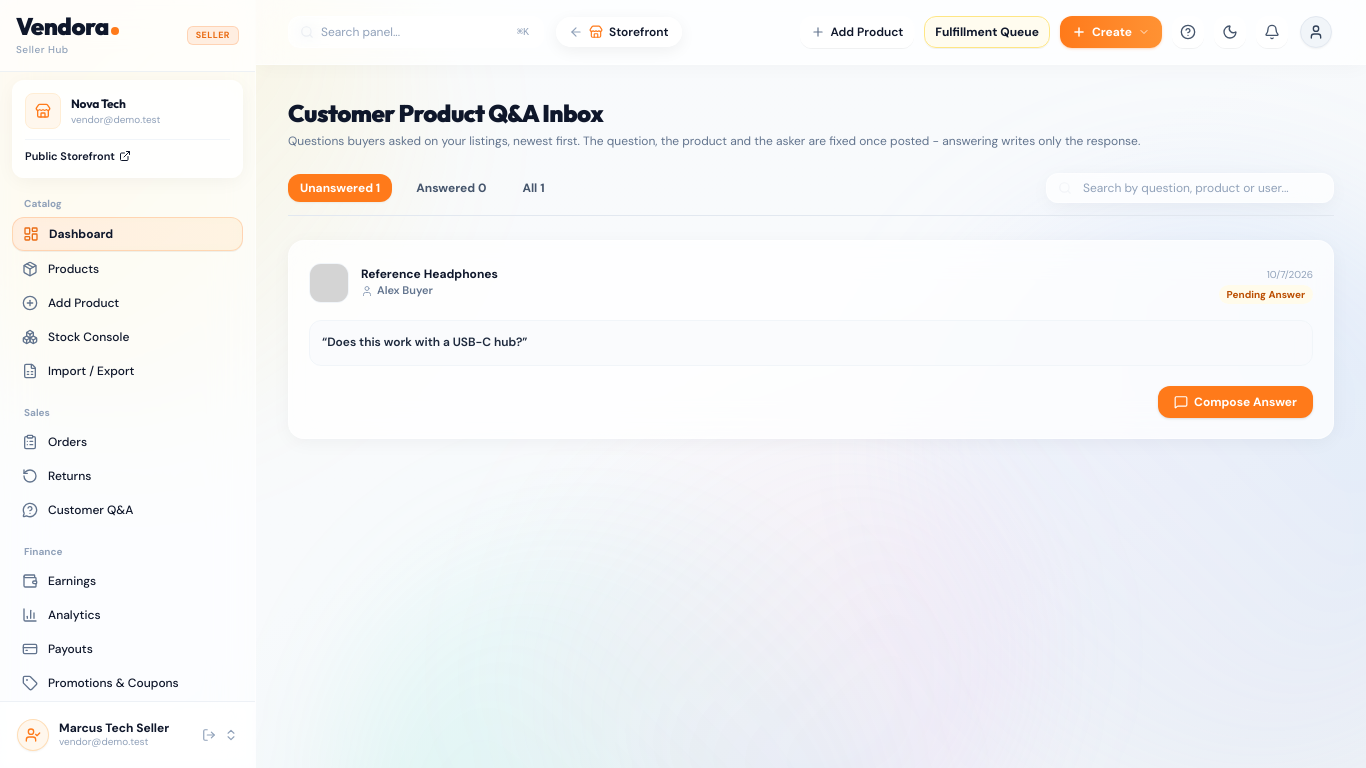
Test: VendorQAPage › reports a write the database refused instead of pretending it saved
Click the button "Compose Answer".
click(1236, 402)  # box [1158,386,1313,418]
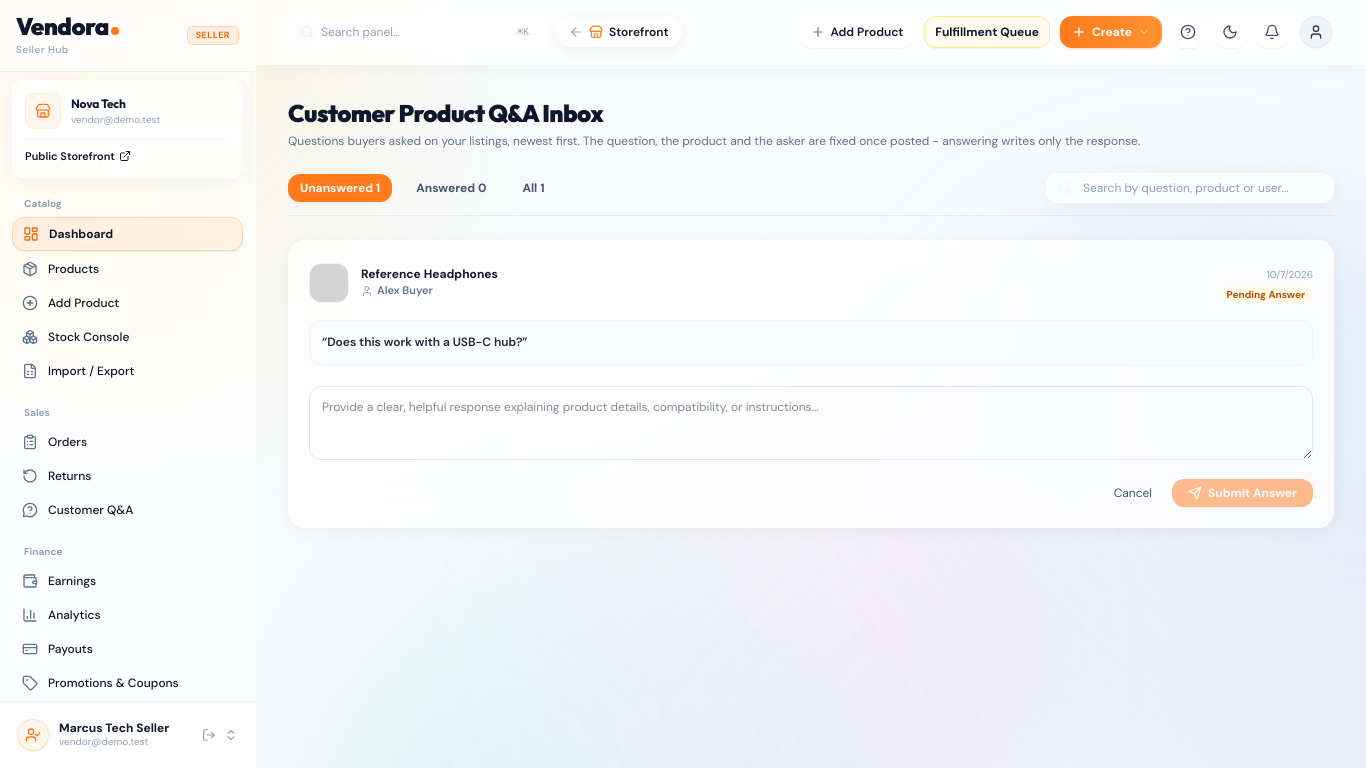
Replace the text in the text box with placeholder "Provide a clear, helpful response" with "An answer." at (811, 422), box [309,386,1313,460]
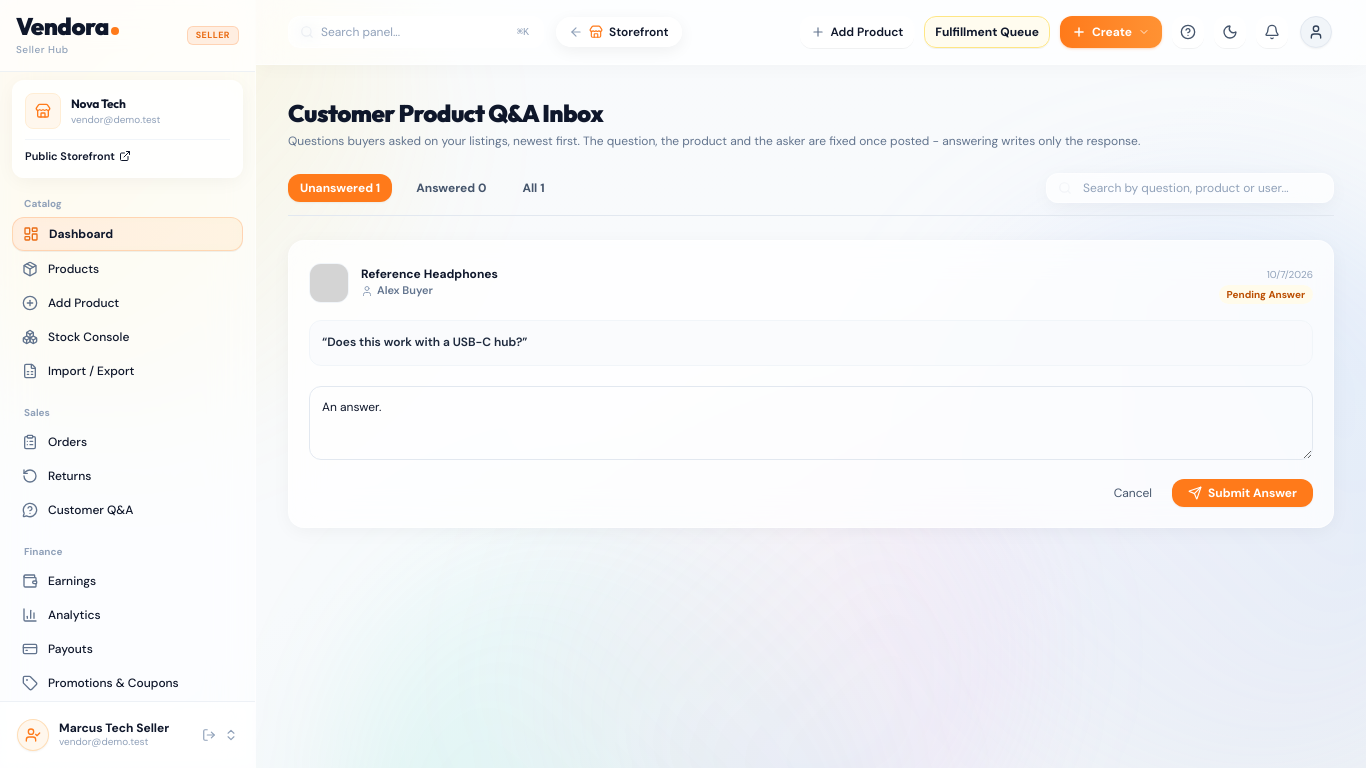
Click the button "Submit Answer".
click(1242, 492)  # box [1172,478,1313,506]
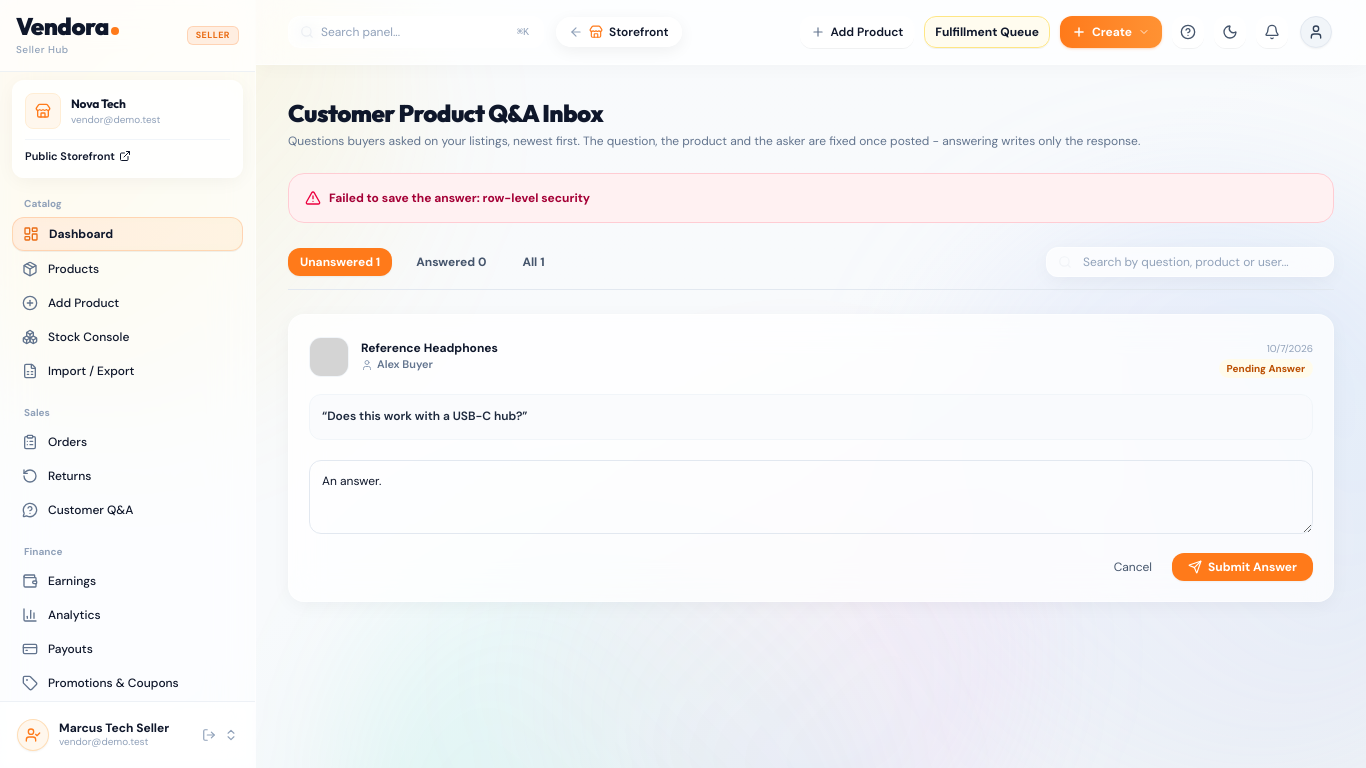
Now the text "Failed to save the answer: row-level security" is shown, box [288,173,1334,223]
